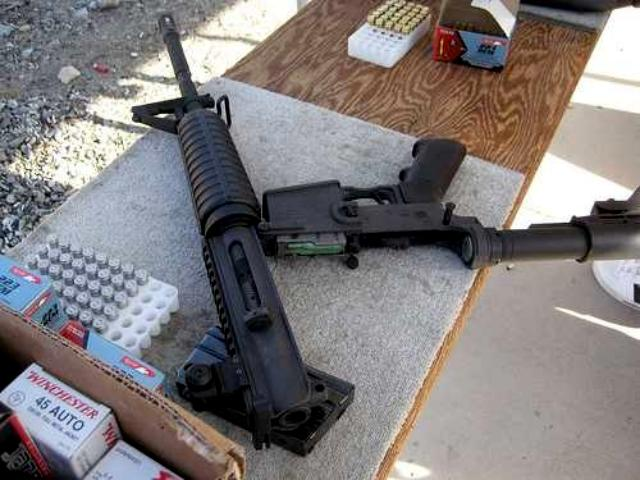rifle: (123, 17, 391, 454), (260, 110, 640, 284)
